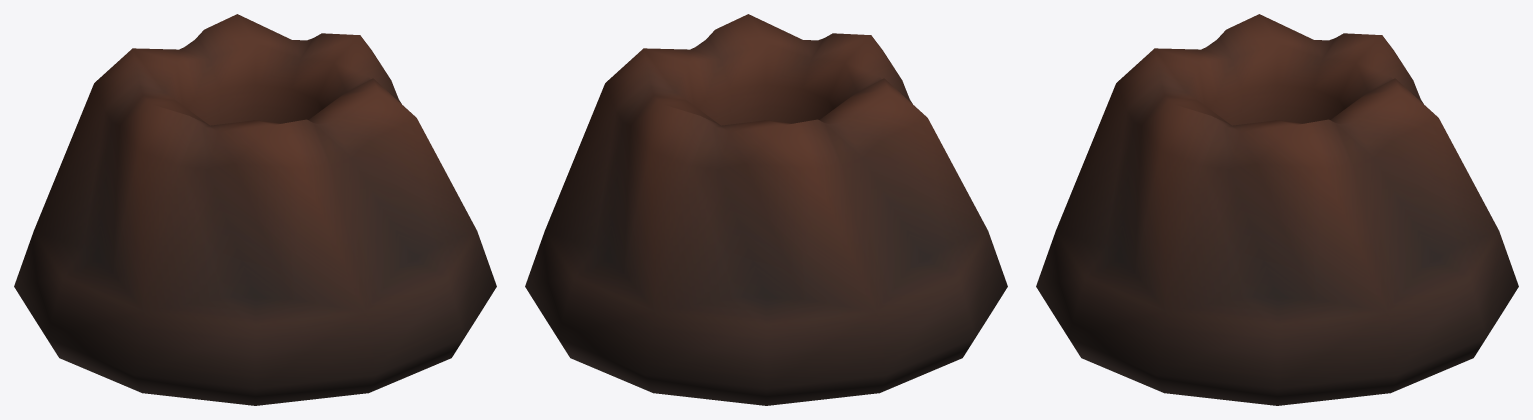
File: m_Gugelhupf01.fbx
3 renders of one model, left to right at view 1: azimuth 30°, elevation 25°; view 2: azimuth 150°, elevation 25°; view 3: azimuth 270°, elevation 25°, orthographic.
Parts seen in each view (by area): view 1: m_Gugelhupf01; view 2: m_Gugelhupf01; view 3: m_Gugelhupf01.
Part boxes in pixels (x1,y1,x2,y2): m_Gugelhupf01: (14,14,496,405); m_Gugelhupf01: (525,14,1007,405); m_Gugelhupf01: (1036,14,1518,405).
Bounding box in the file's own units: 29 × 15.94 × 29.
